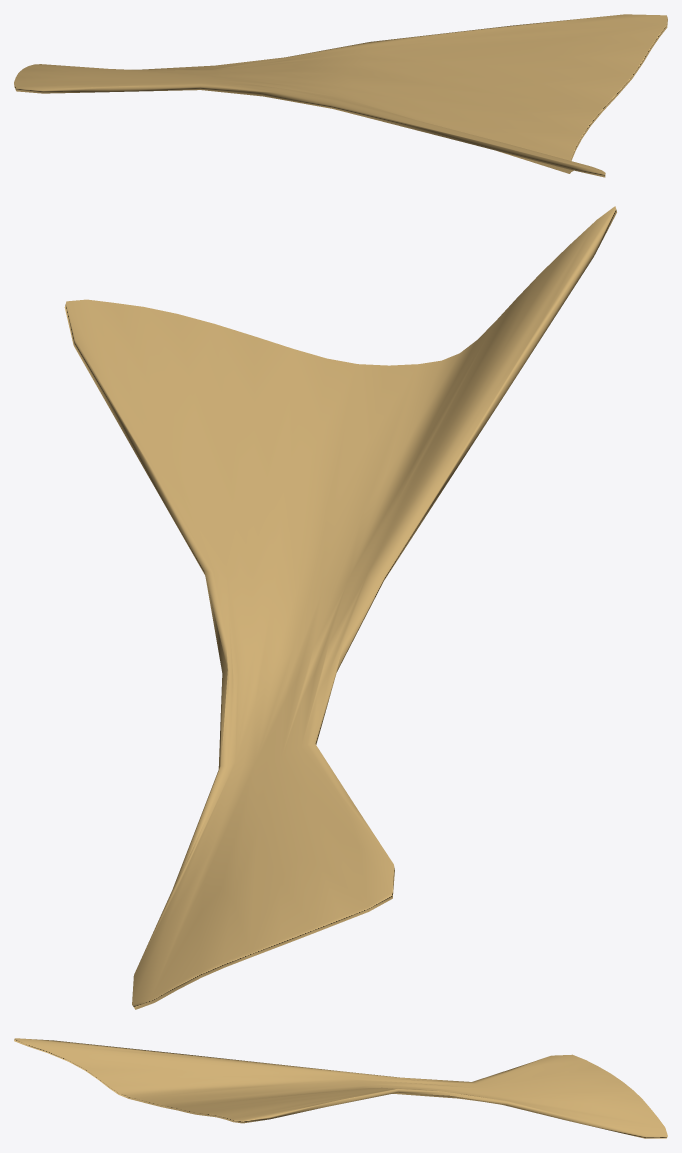
3 renders of one model, top to bottom at view 1: azimuth 30°, elevation 25°; view 2: azimuth 150°, elevation 25°; view 3: azimuth 270°, elevation 25°, orthographic. The views are drawn at different scales.
Parts seen in each view (by area): view 1: 右侧骶结节韧带; view 2: 右侧骶结节韧带; view 3: 右侧骶结节韧带.
Part boxes in pixels (x1,y1,x2,y2): 右侧骶结节韧带: [14, 14, 667, 177]; 右侧骶结节韧带: [64, 206, 616, 1009]; 右侧骶结节韧带: [14, 1038, 667, 1138].
Bounding box in the file's own units: 0.0754 × 0.0312 × 0.1299.
